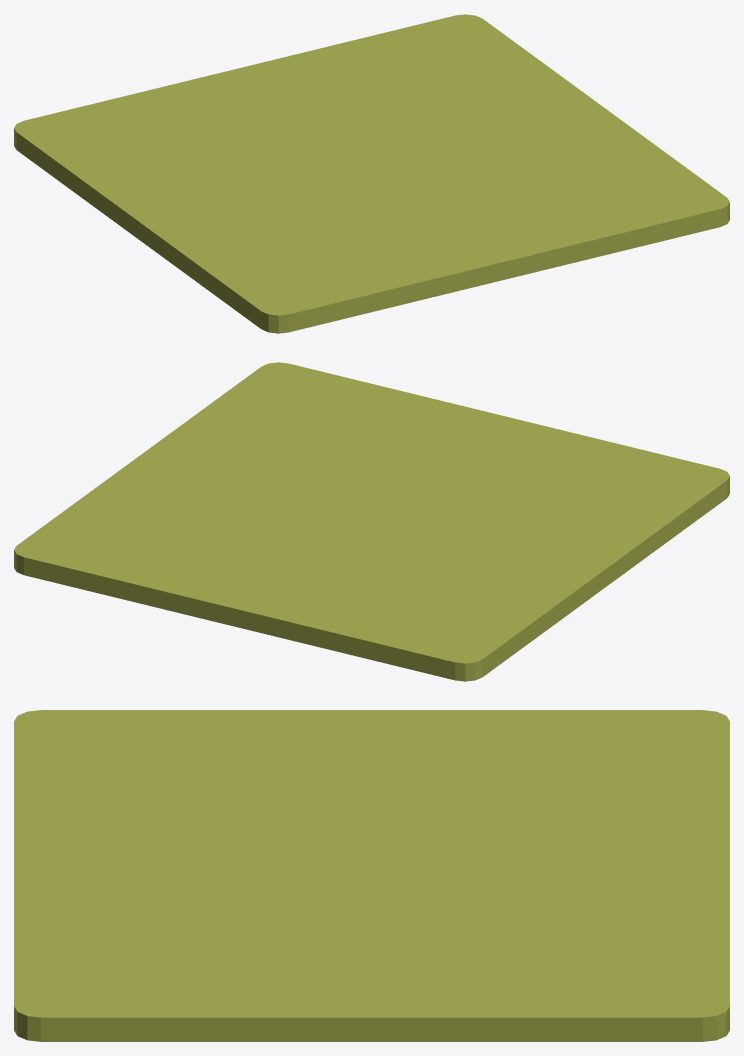
Rendered from grass_top_002.fbx.
3 views of the same model, one above another, from view 1: azimuth 30°, elevation 25°; view 2: azimuth 150°, elevation 25°; view 3: azimuth 270°, elevation 25° (orthographic). The views are drawn at different scales.
Parts seen in each view (by area): view 1: grass_top.002; view 2: grass_top.002; view 3: grass_top.002.
Boxes of the visible parts, bbox=[...] form: grass_top.002: bbox=[14, 14, 729, 333]; grass_top.002: bbox=[14, 362, 729, 681]; grass_top.002: bbox=[14, 710, 729, 1041].
Bounding box in the file's own units: 406 × 15 × 400.
